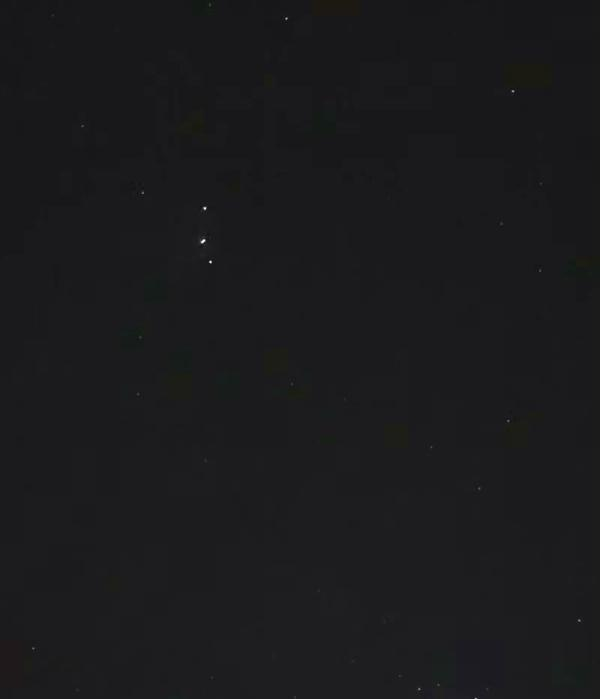Plane: (190, 182, 220, 277)
